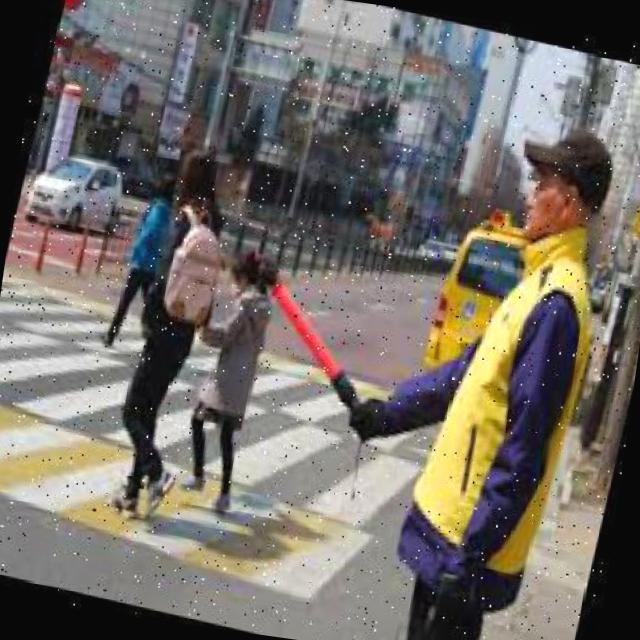Person: (294, 89, 632, 640), (96, 139, 249, 534), (173, 238, 288, 515), (102, 160, 189, 356)
